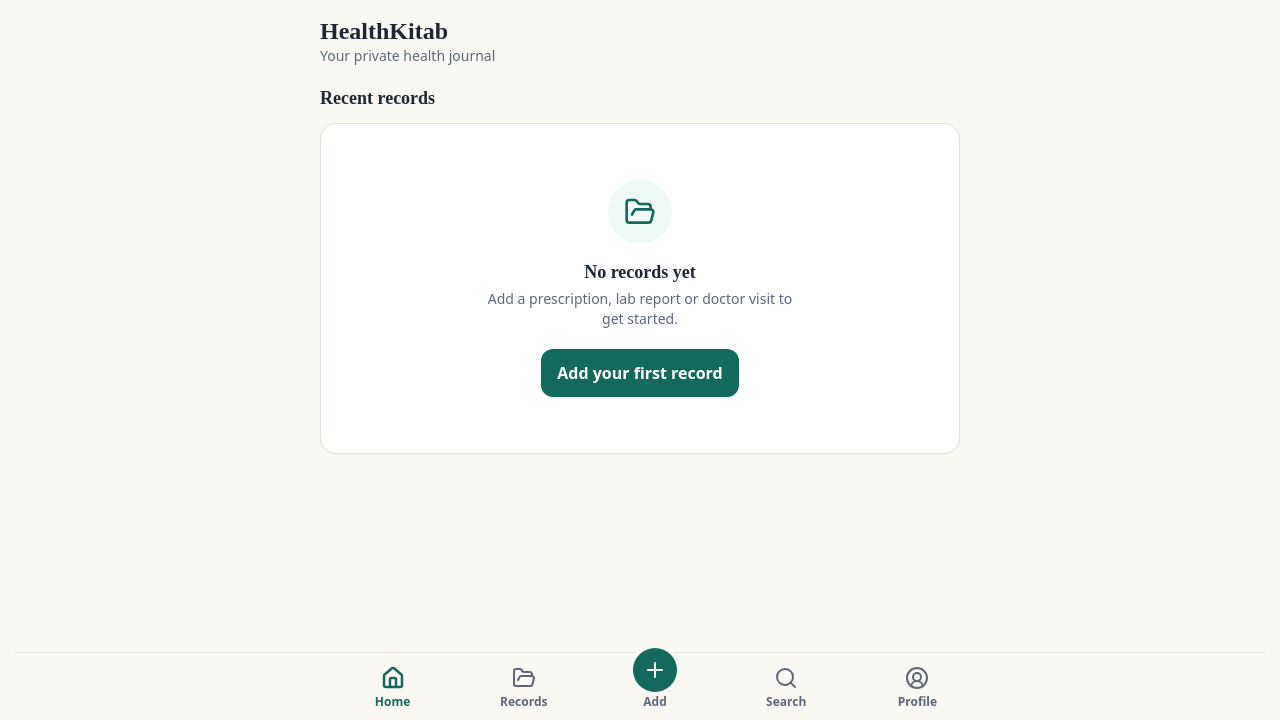
Test case: record type sheet › shows every record type and opens the chosen form
The width and height of the screenshot is (1280, 720).
Click the button with aria-label "Add record".
click(655, 686)  # box top-left (589, 653), bottom-right (721, 719)
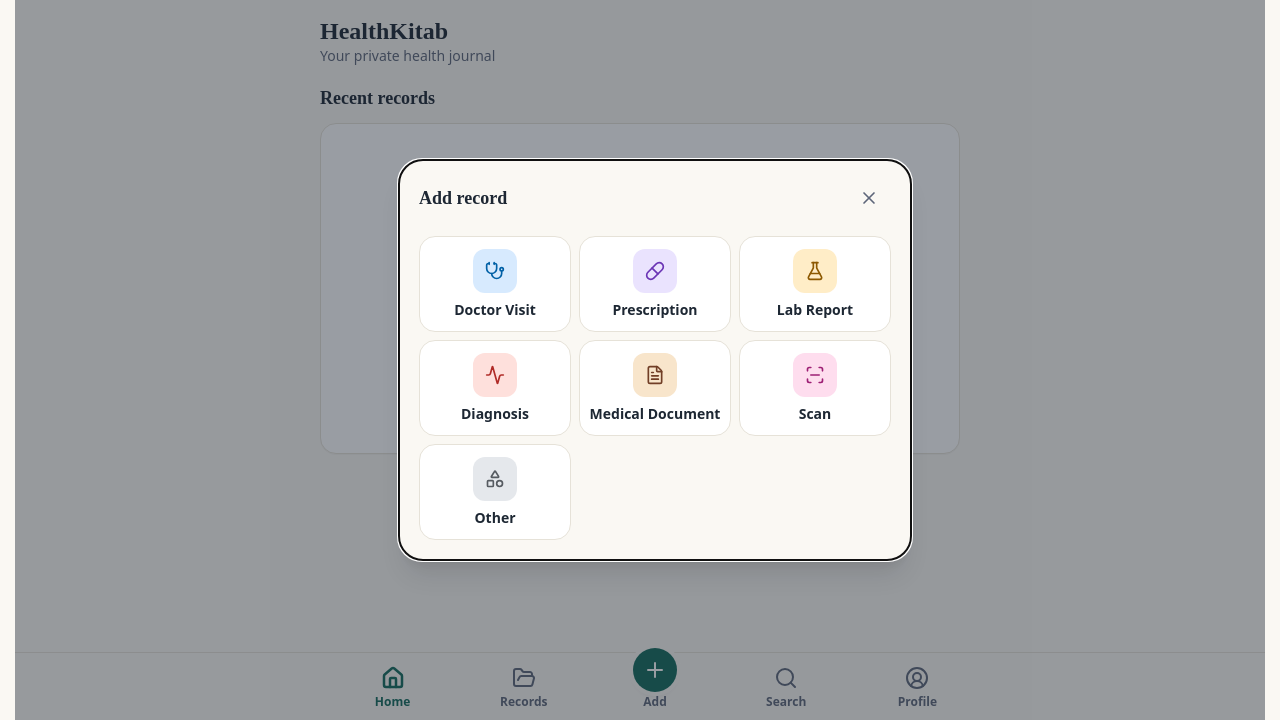
Expected: the link "Doctor Visit" is shown, top-left (419, 236), bottom-right (571, 332)
Expected: the link "Prescription" is shown, top-left (579, 236), bottom-right (731, 332)
Expected: the link "Lab Report" is shown, top-left (739, 236), bottom-right (891, 332)
Click the link "Scan".
click(815, 388)  # box top-left (739, 340), bottom-right (891, 436)
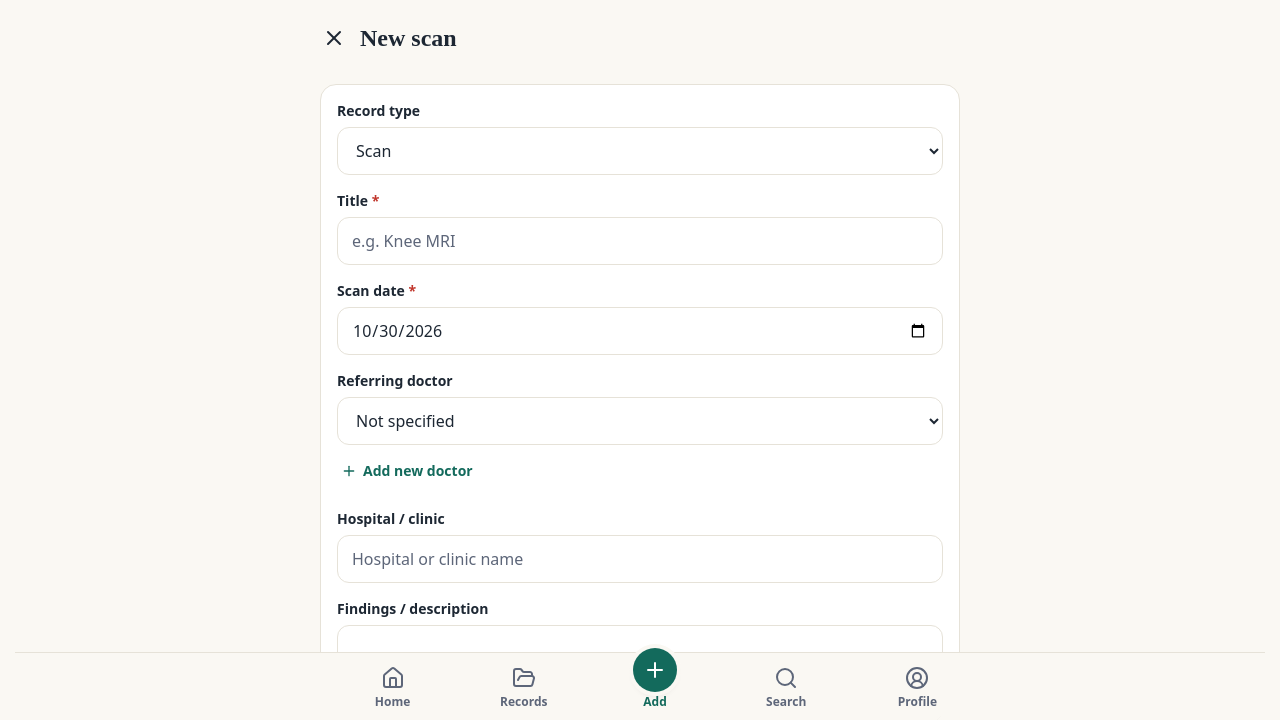
Expected: the heading "New scan" is shown, top-left (360, 25), bottom-right (457, 51)
Expected: the dialog is gone
